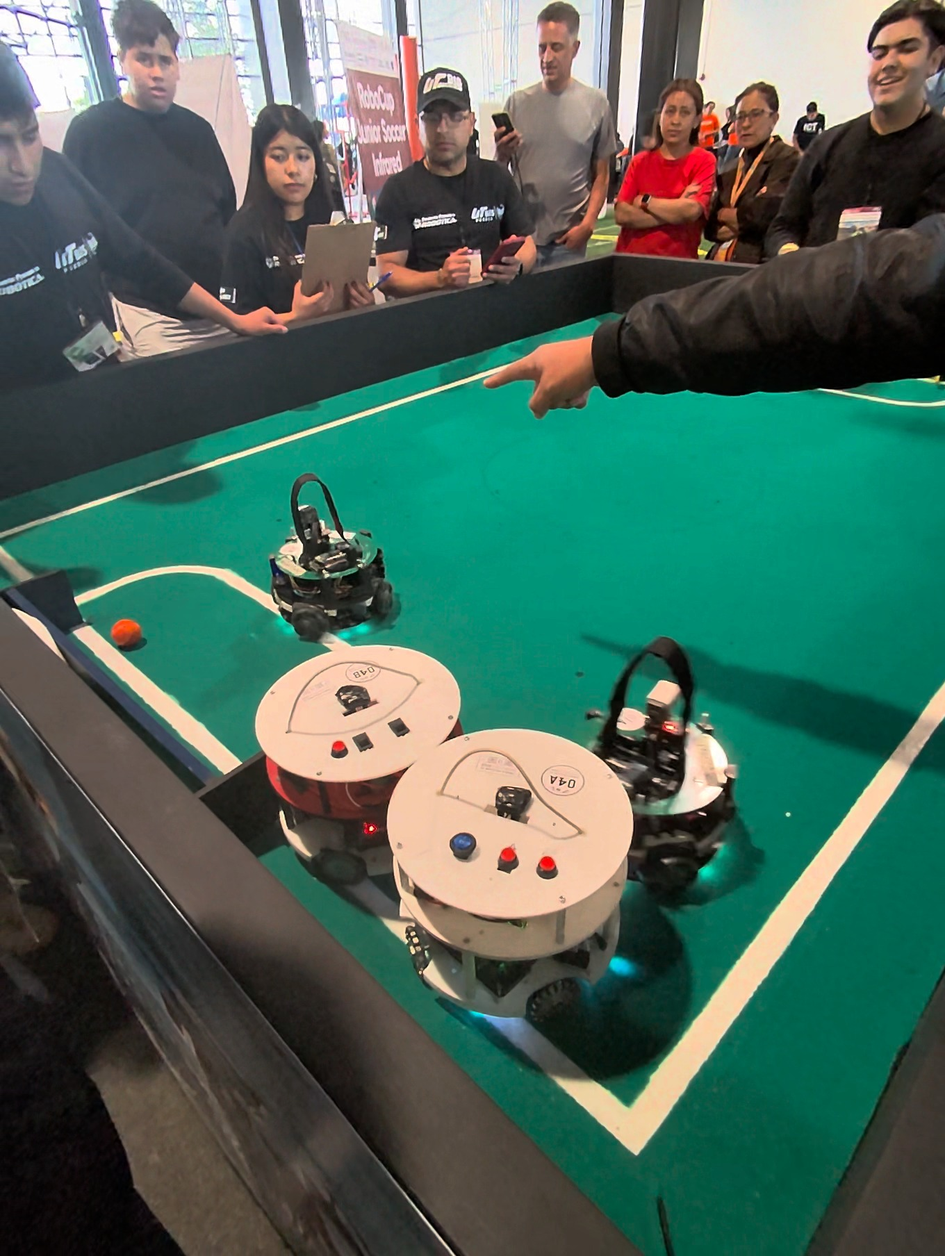Robot: (386, 713, 639, 1036), (246, 644, 468, 913), (587, 629, 741, 917), (268, 465, 394, 636)
pelota: (111, 616, 143, 647)
